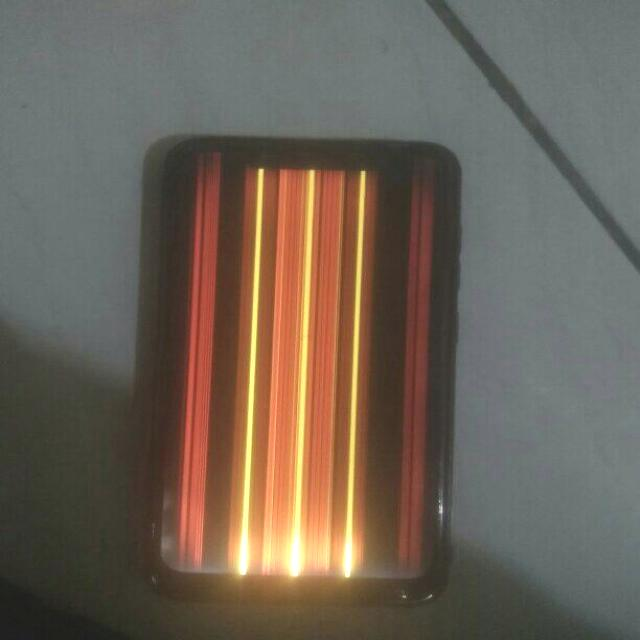phone: (146, 130, 444, 602)
